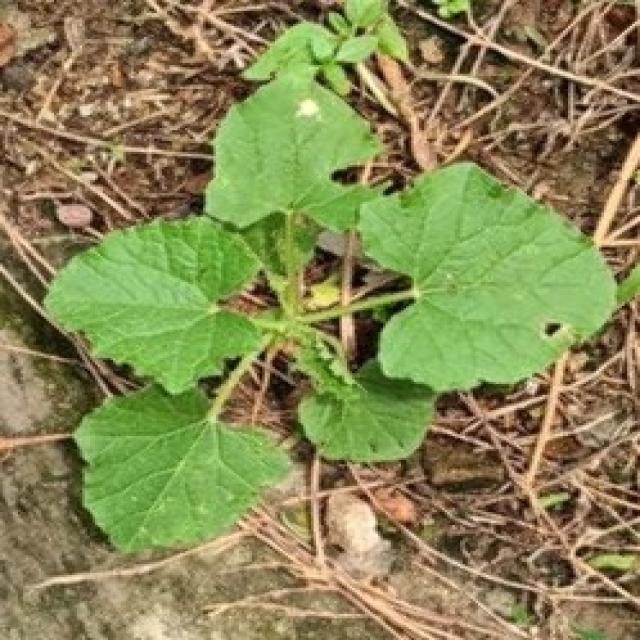plant: (51, 0, 619, 550)
